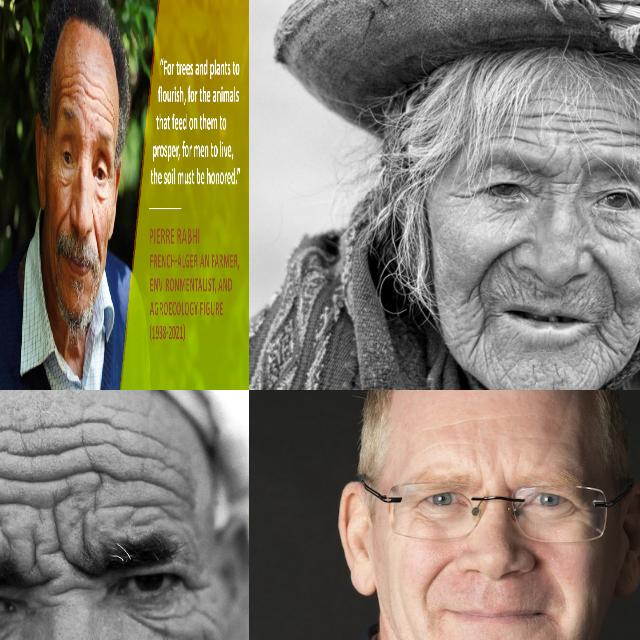chin: (486, 358, 516, 384), (574, 359, 596, 387)
crows_feet: (181, 564, 213, 594), (448, 182, 476, 205), (572, 497, 594, 521)
forehead: (86, 414, 144, 498), (19, 424, 77, 494), (150, 441, 198, 517), (599, 126, 640, 158), (546, 118, 592, 144), (497, 128, 541, 150), (523, 103, 571, 123), (433, 412, 472, 432), (105, 93, 115, 128), (58, 75, 70, 103), (73, 66, 83, 99), (84, 79, 97, 103), (97, 82, 105, 120)
frown_line: (68, 502, 100, 560), (41, 580, 91, 606), (22, 531, 48, 579), (48, 513, 70, 569), (550, 171, 578, 199), (499, 466, 513, 494)
gummy_smile: (589, 250, 623, 300), (480, 240, 516, 282), (426, 554, 452, 596), (55, 208, 66, 238), (93, 221, 102, 256)
sad_smile: (465, 314, 491, 354), (594, 328, 622, 360)
smoker_lines: (496, 278, 530, 304), (572, 288, 604, 314)
